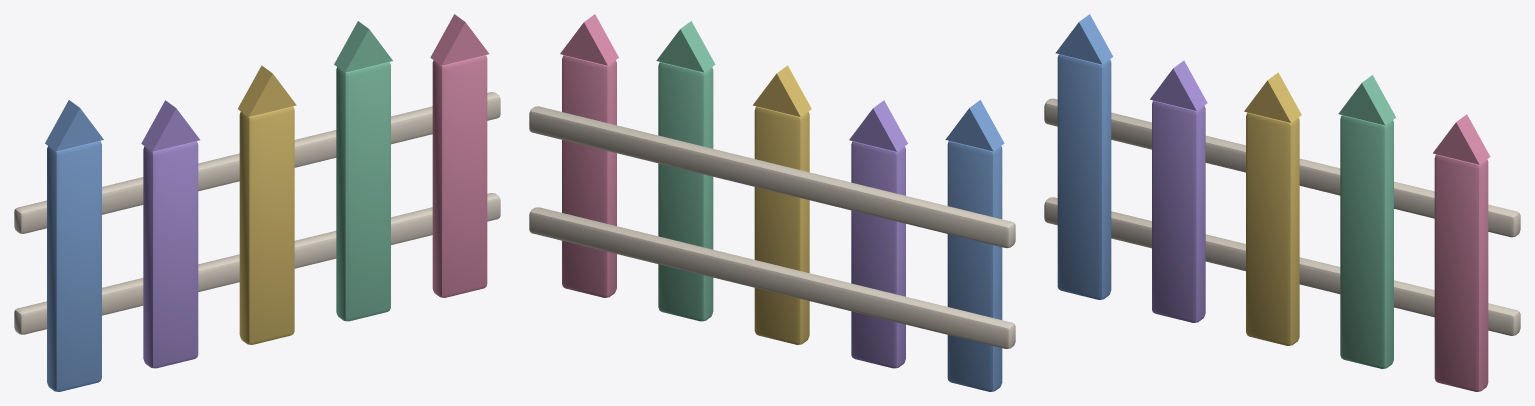
File: Toy_Fence.fbx
3 views of the same model, side by side, from view 1: azimuth 30°, elevation 25°; view 2: azimuth 150°, elevation 25°; view 3: azimuth 330°, elevation 25° (orthographic). The views are drawn at different scales.
Parts seen in each view (by area): view 1: Toy_Fence; view 2: Toy_Fence; view 3: Toy_Fence.
Part boxes in pixels (box(x1,y1,x2,y2)): Toy_Fence: box(14, 14, 500, 391); Toy_Fence: box(529, 14, 1015, 391); Toy_Fence: box(1044, 14, 1520, 391).
Size of the model in its own units: 0.6 by 0.3448 by 0.042.
